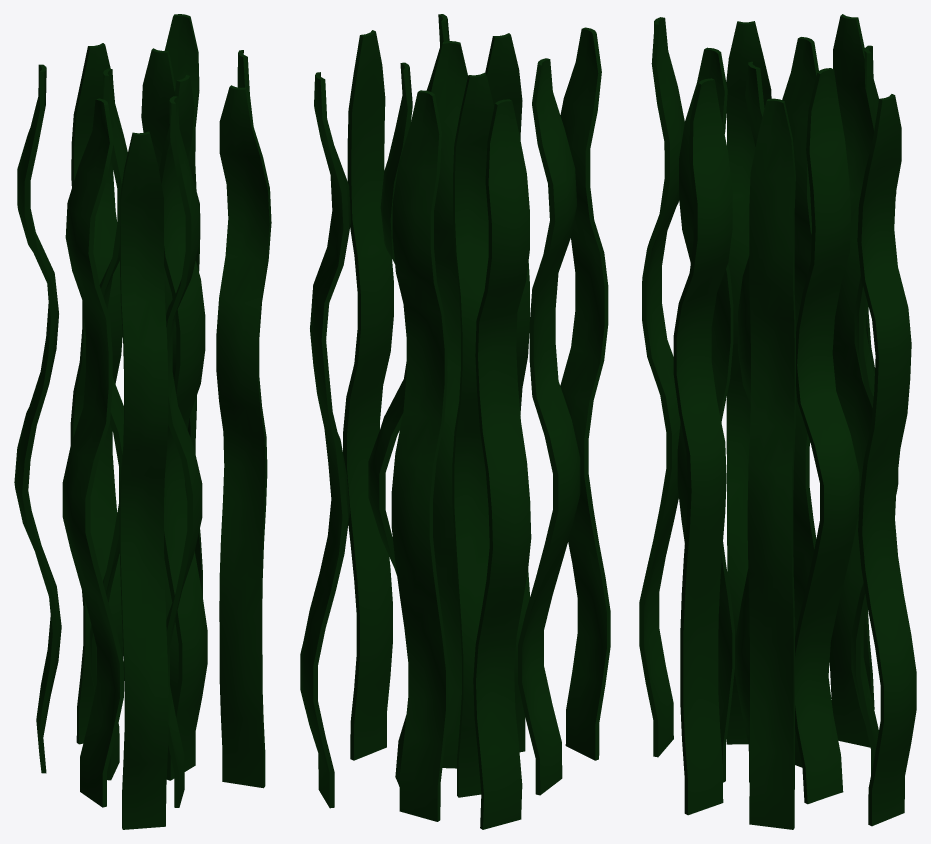
Rendered from medium.fbx.
3 views of the same model, side by side, from view 1: azimuth 30°, elevation 25°; view 2: azimuth 150°, elevation 25°; view 3: azimuth 270°, elevation 25° (orthographic). The views are drawn at different scales.
Parts seen in each view (by area): view 1: pCube65; view 2: pCube65; view 3: pCube65.
Boxes of the visible parts, left/top/right/bottom form: pCube65: left=14, top=14, right=271, bottom=829; pCube65: left=300, top=14, right=610, bottom=829; pCube65: left=639, top=14, right=916, bottom=829.
Size of the model in its own units: 49.59 by 160 by 55.47.
